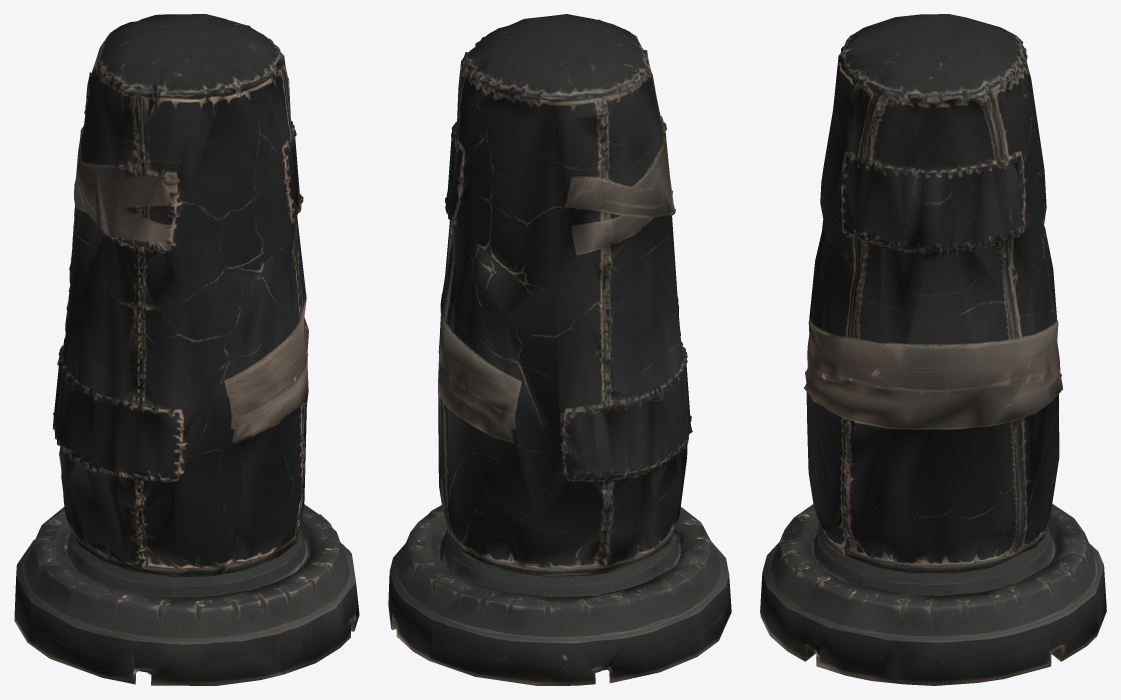
The model's file is bag.glb.
3 renders of one model, left to right at view 1: azimuth 30°, elevation 25°; view 2: azimuth 150°, elevation 25°; view 3: azimuth 270°, elevation 25°, orthographic.
Visible parts, largest first — view 1: Mesh1.0; view 2: Mesh1.0; view 3: Mesh1.0.
Boxes of the visible parts, x1,y1,x2,y2 form: Mesh1.0: [14, 14, 359, 685]; Mesh1.0: [388, 14, 731, 685]; Mesh1.0: [760, 14, 1106, 685].
Bounding box in the file's own units: 1.02 × 1.91 × 1.03.
Materials: 1 (1 with a texture image).
